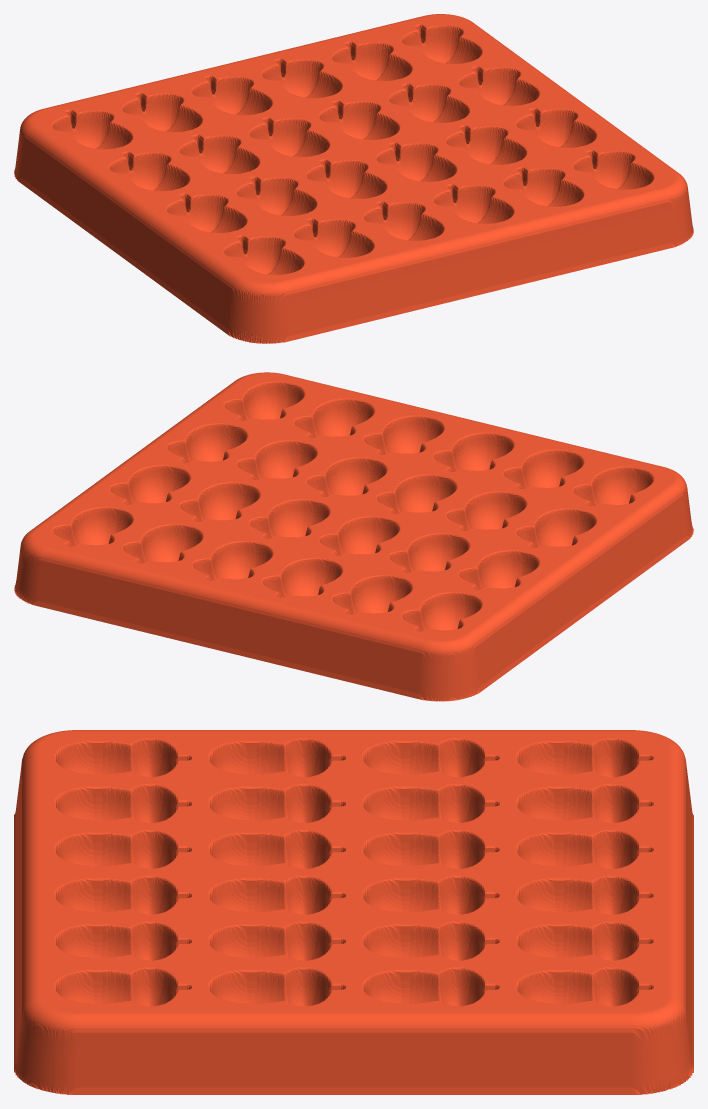
File: mold.glb
3 renders of one model, top to bottom at view 1: azimuth 30°, elevation 25°; view 2: azimuth 150°, elevation 25°; view 3: azimuth 270°, elevation 25°, orthographic. The views are drawn at different scales.
Parts seen in each view (by area): view 1: geometry_0; view 2: geometry_0; view 3: geometry_0.
Part boxes in pixels (x1,y1,x2,y2): geometry_0: (14, 14, 693, 343); geometry_0: (14, 372, 693, 701); geometry_0: (14, 730, 693, 1094).
Bounding box in the file's own units: 0.1031 × 0.0114 × 0.098.
